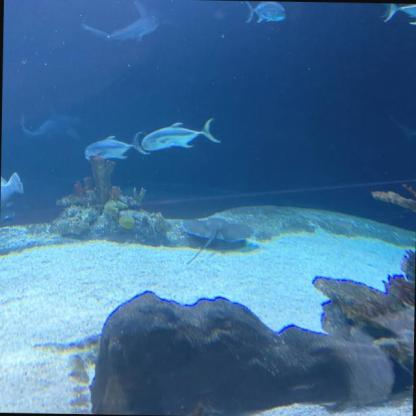fish: (140, 116, 221, 152), (82, 131, 151, 163), (242, 1, 288, 25), (0, 172, 23, 215), (384, 2, 416, 26)
shark: (83, 0, 174, 44), (21, 104, 91, 140)
stingray: (180, 216, 256, 244)
